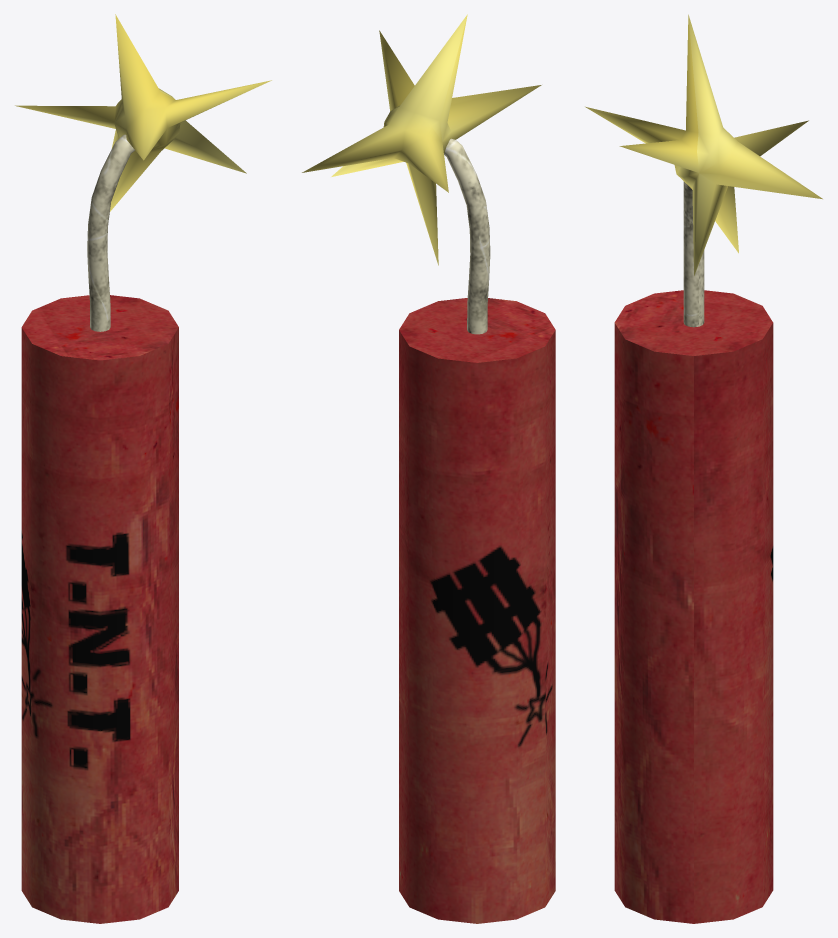
Rendered from Petars_Munitions.obj.
The picture shows the model from 3 angles, left to right: view 1: azimuth 30°, elevation 25°; view 2: azimuth 150°, elevation 25°; view 3: azimuth 270°, elevation 25°; orthographic projection.
Visible parts, largest first — view 1: petar_a_meche; view 2: petar_a_meche; view 3: petar_a_meche.
Boxes of the visible parts, <box> form: petar_a_meche: <box>15,14,271,923</box>; petar_a_meche: <box>302,14,555,923</box>; petar_a_meche: <box>585,14,822,923</box>.
Size of the model in its own units: 27.05 by 105 by 25.83.
Materials: 1 (1 with a texture image).
